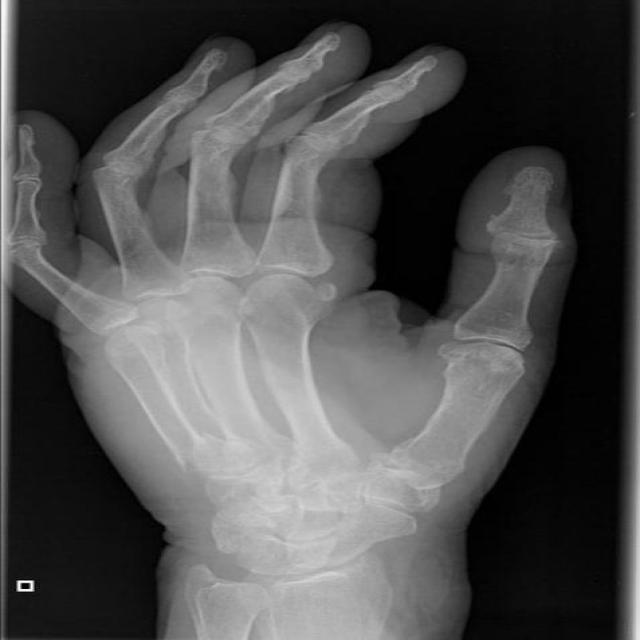Oblique Displaced: (151, 423, 217, 488)
